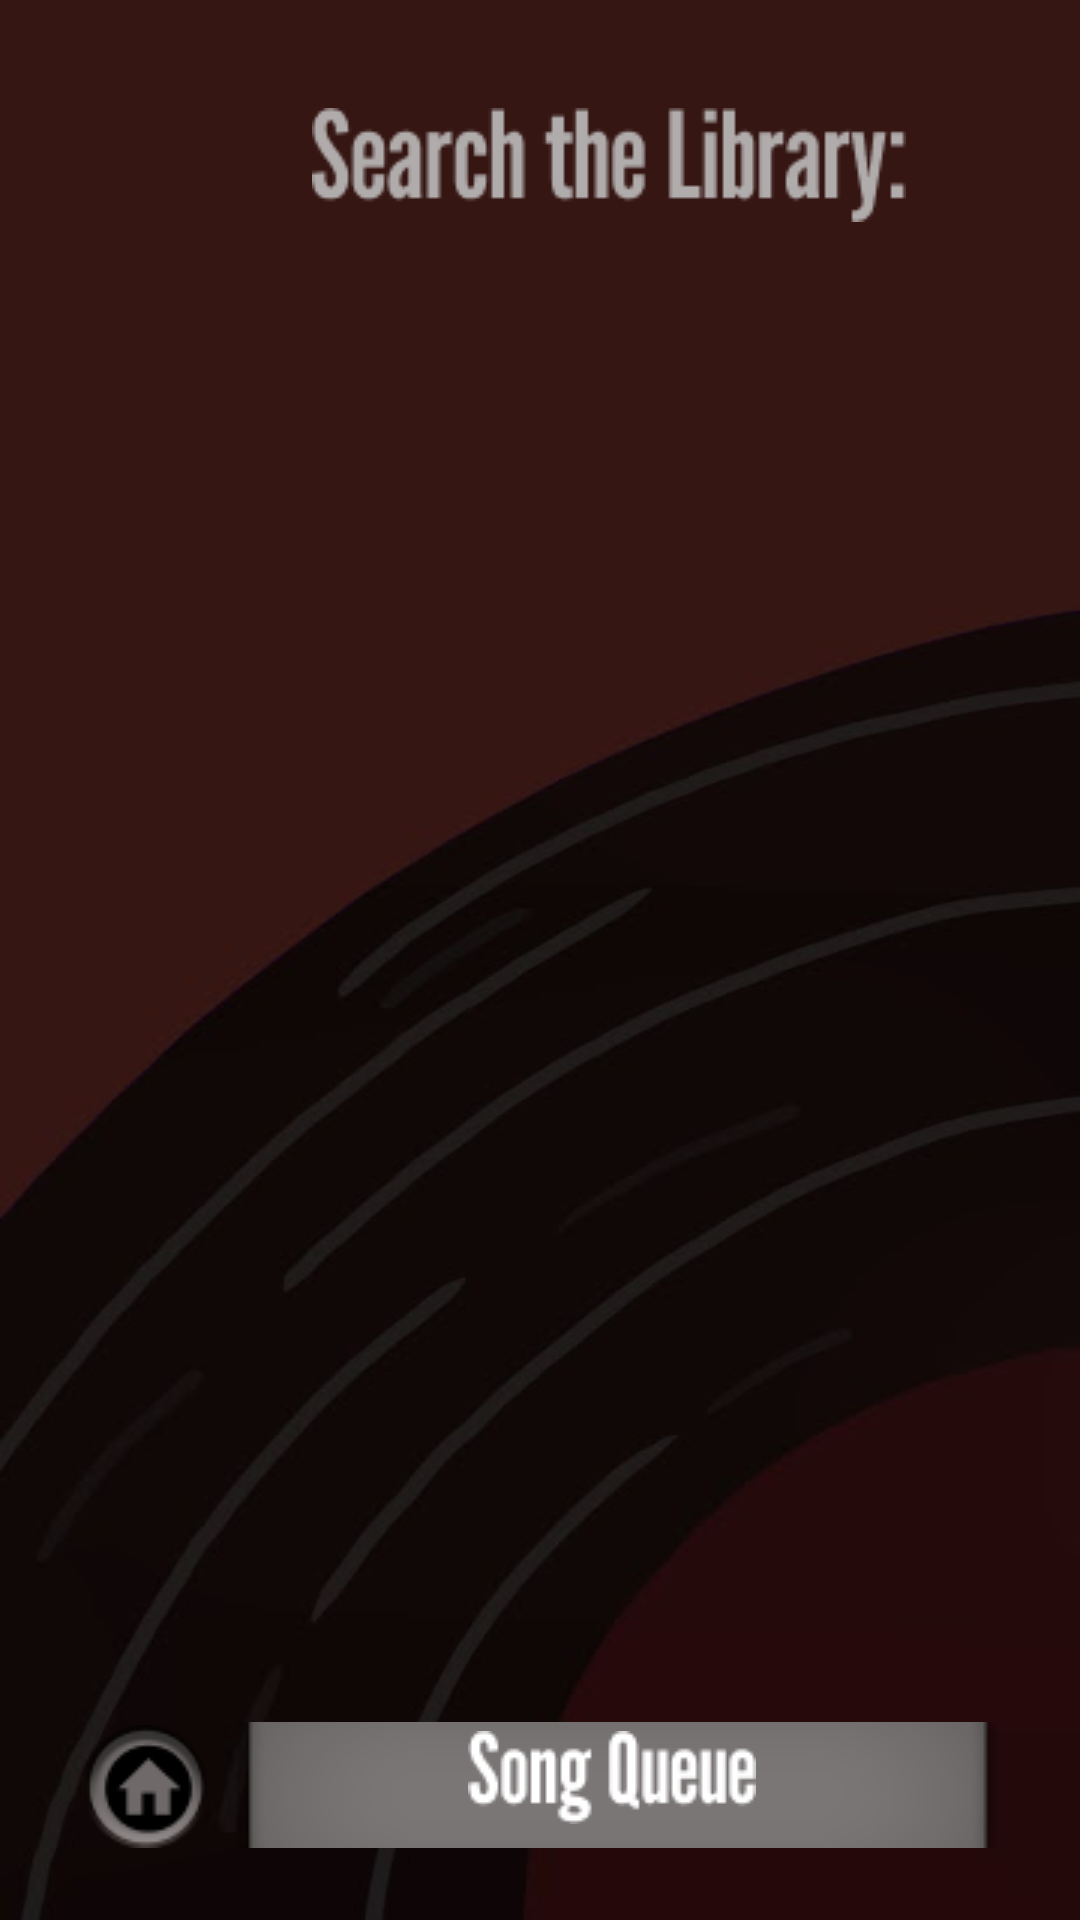

Named icons in this screenshot (1080 x 1920) and their centers, [x,y]:
home circle: [148,1789]
